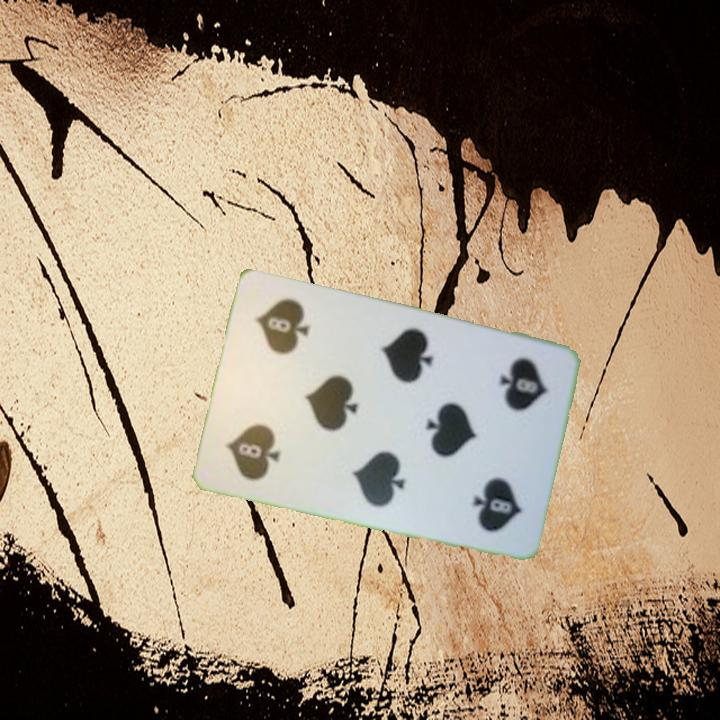s_8.png: (460, 339, 565, 454), (209, 378, 314, 493)
